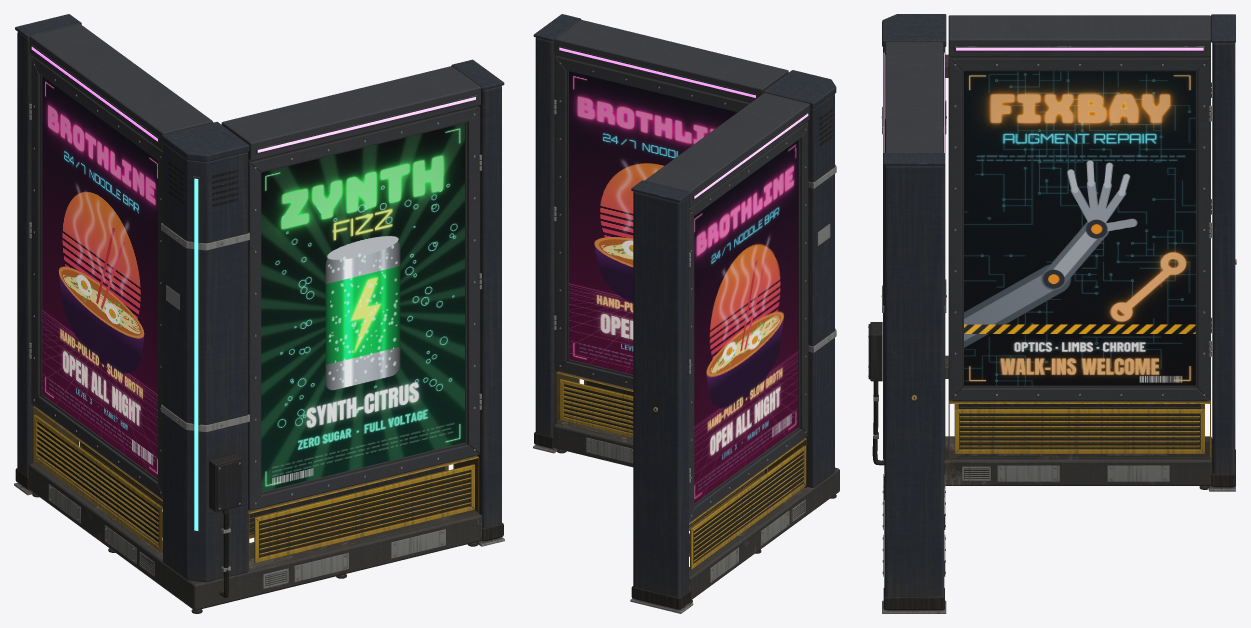
The picture shows the model from 3 angles, left to right: view 1: azimuth 30°, elevation 25°; view 2: azimuth 150°, elevation 25°; view 3: azimuth 270°, elevation 25°; orthographic projection. The views are drawn at different scales.
Parts seen in each view (by area): view 1: SM_OCK_StandingSignAd_A_Posters, SM_OCK_StandingSignAd_A_Post, SM_OCK_StandingSignAd_A_Ends, SM_OCK_StandingSignAd_A_Frame, SM_OCK_StandingSignAd_A_Trim, SM_OCK_StandingSignAd_A_Base; view 2: SM_OCK_StandingSignAd_A_Posters, SM_OCK_StandingSignAd_A_Ends, SM_OCK_StandingSignAd_A_Frame, SM_OCK_StandingSignAd_A_Post, SM_OCK_StandingSignAd_A_Trim, SM_OCK_StandingSignAd_A_Base; view 3: SM_OCK_StandingSignAd_A_Posters, SM_OCK_StandingSignAd_A_Ends, SM_OCK_StandingSignAd_A_Frame, SM_OCK_StandingSignAd_A_Trim, SM_OCK_StandingSignAd_A_Base, SM_OCK_StandingSignAd_A_Post.
Boxes of the visible parts, <box> form: SM_OCK_StandingSignAd_A_Posters: <box>42,76,464,491</box>; SM_OCK_StandingSignAd_A_Post: <box>161,122,249,597</box>; SM_OCK_StandingSignAd_A_Ends: <box>14,14,504,546</box>; SM_OCK_StandingSignAd_A_Frame: <box>29,56,481,510</box>; SM_OCK_StandingSignAd_A_Trim: <box>33,406,479,568</box>; SM_OCK_StandingSignAd_A_Base: <box>28,462,482,613</box>; SM_OCK_StandingSignAd_A_Posters: <box>569,71,798,502</box>; SM_OCK_StandingSignAd_A_Ends: <box>533,14,809,613</box>; SM_OCK_StandingSignAd_A_Frame: <box>553,55,808,522</box>; SM_OCK_StandingSignAd_A_Post: <box>763,70,836,487</box>; SM_OCK_StandingSignAd_A_Trim: <box>556,371,806,574</box>; SM_OCK_StandingSignAd_A_Base: <box>553,420,839,602</box>; SM_OCK_StandingSignAd_A_Posters: <box>960,69,1198,387</box>; SM_OCK_StandingSignAd_A_Ends: <box>882,14,1236,613</box>; SM_OCK_StandingSignAd_A_Frame: <box>948,56,1211,400</box>; SM_OCK_StandingSignAd_A_Trim: <box>948,400,1210,458</box>; SM_OCK_StandingSignAd_A_Base: <box>882,436,1212,576</box>; SM_OCK_StandingSignAd_A_Post: <box>868,14,949,465</box>.
Bounding box in the file's own units: 1.71 × 2.4 × 1.78.
8 materials, 8 textured.
